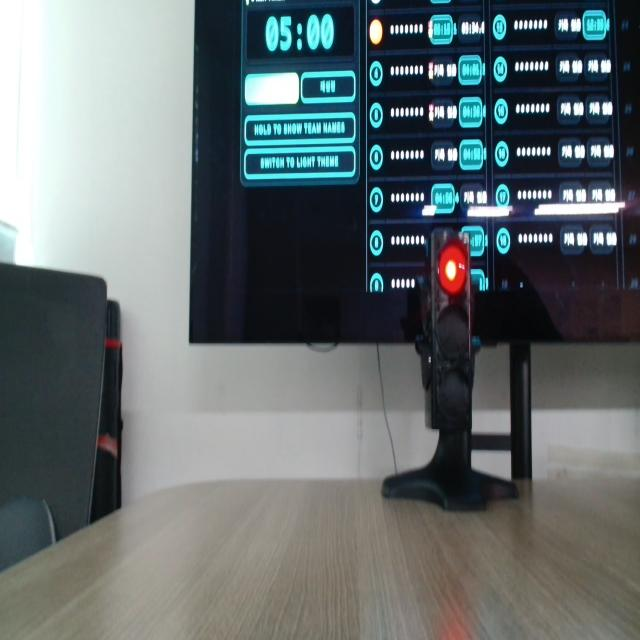red_light: (439, 241, 467, 295)
